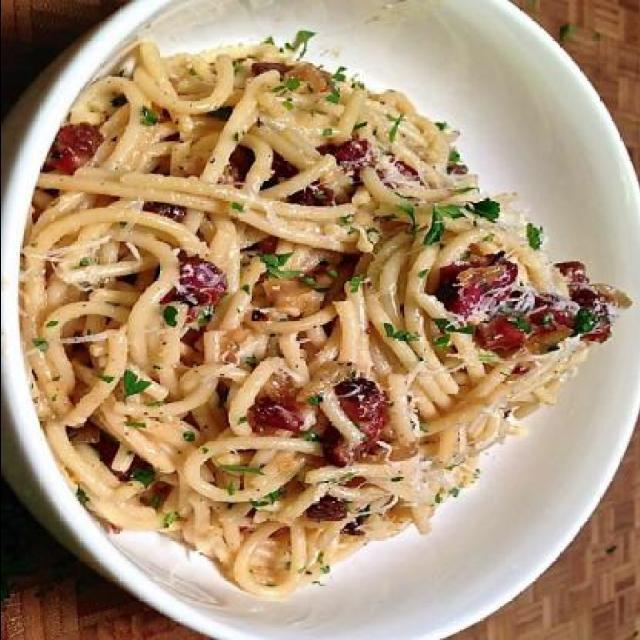Oil pasta: (41, 67, 624, 551)
